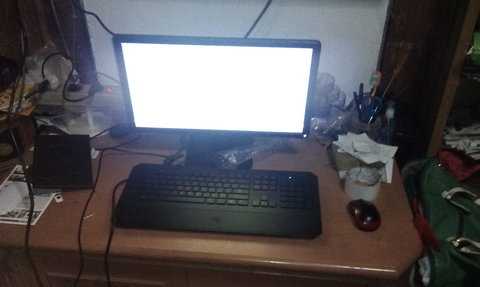pc: (111, 33, 324, 240)
